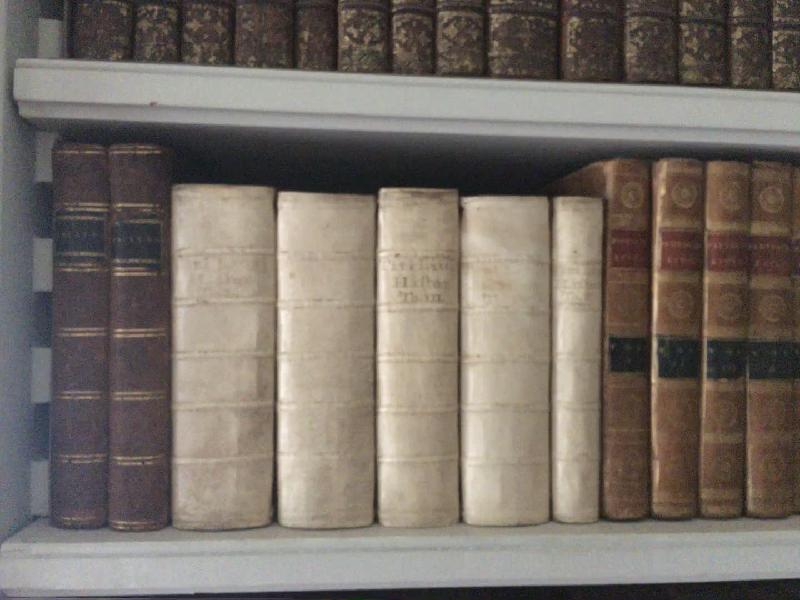Kk4-1_2: (41, 131, 187, 551)
Kk4-3_7: (166, 175, 608, 537)
Kk4-8_13: (593, 149, 800, 524)
